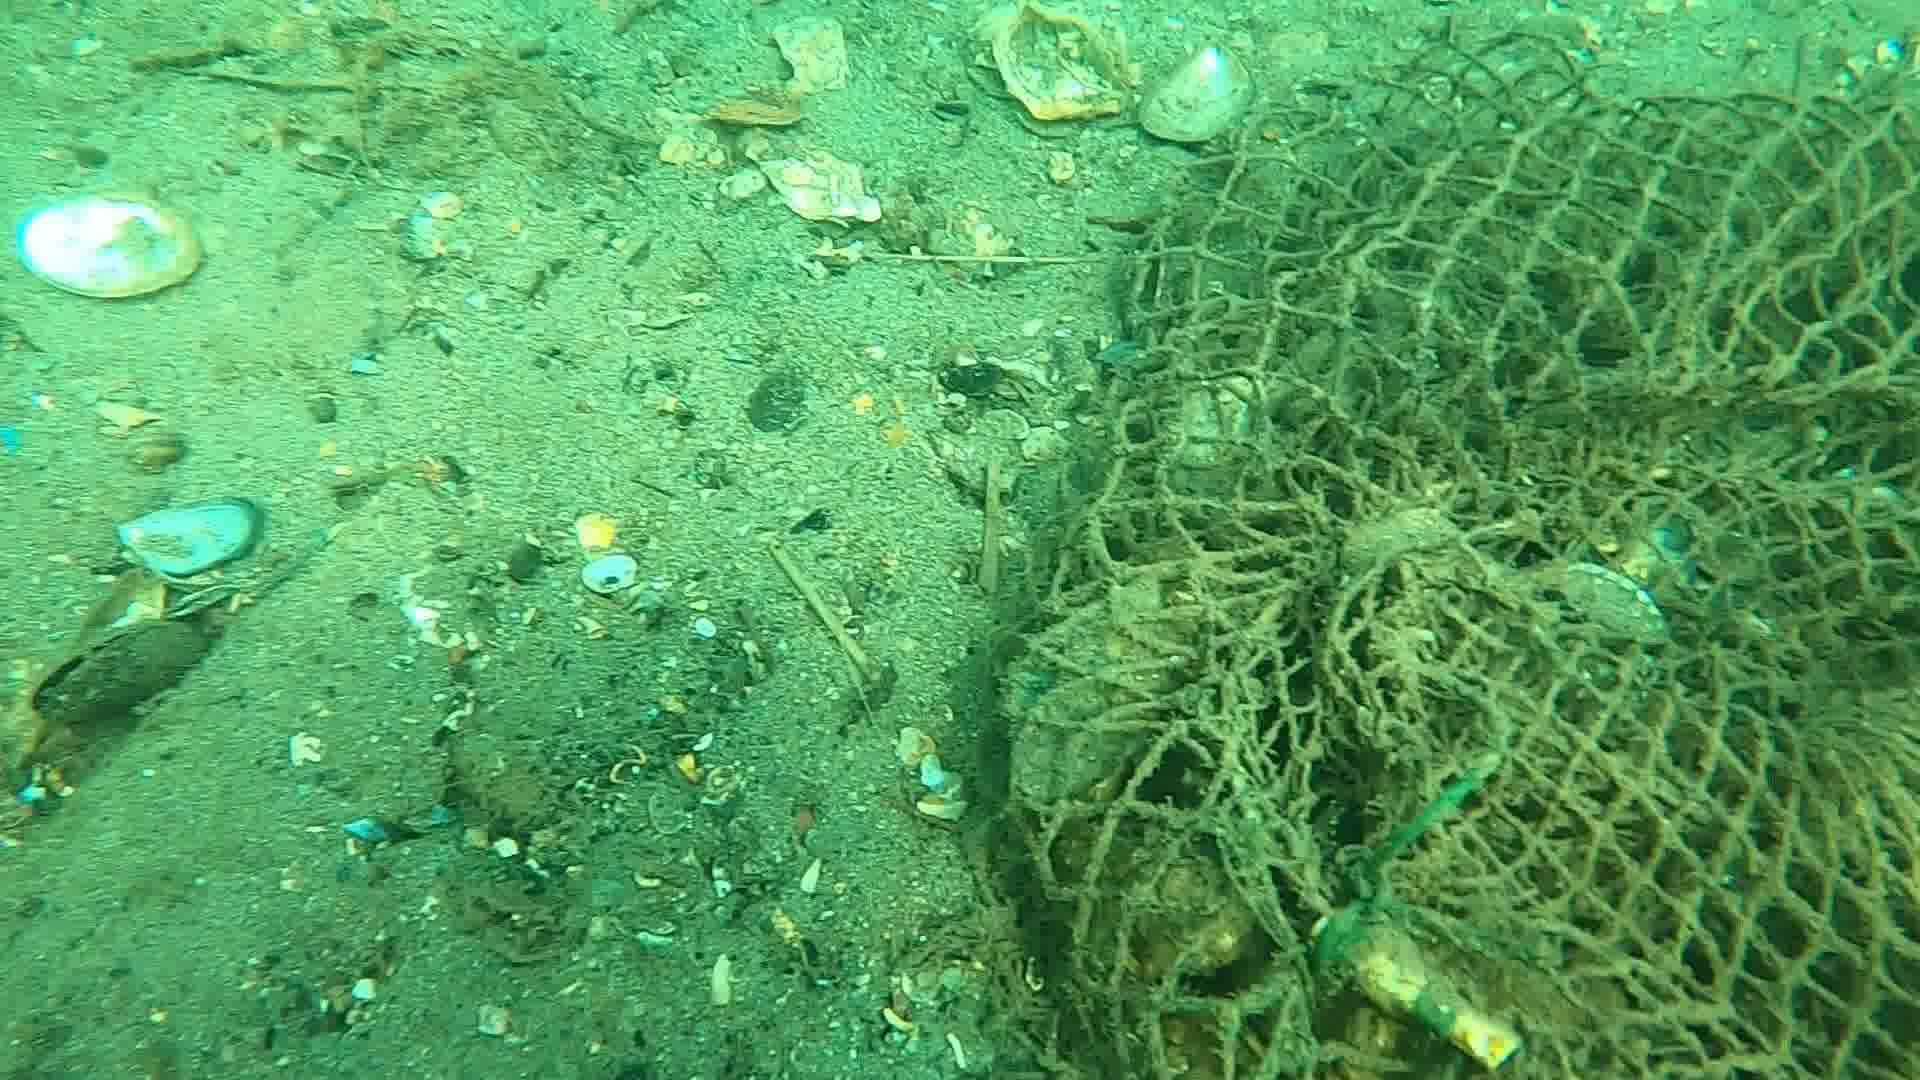fish net: (978, 26, 1920, 1080)
